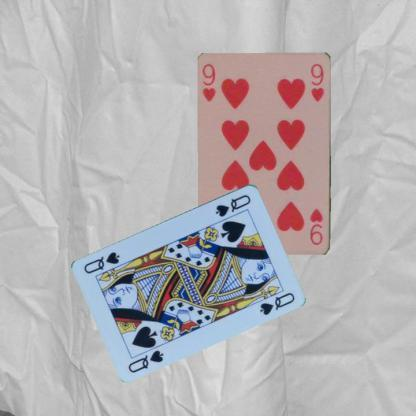9h: (200, 61, 218, 104), (308, 206, 324, 247)
Qs: (126, 346, 166, 374), (212, 191, 252, 218)
